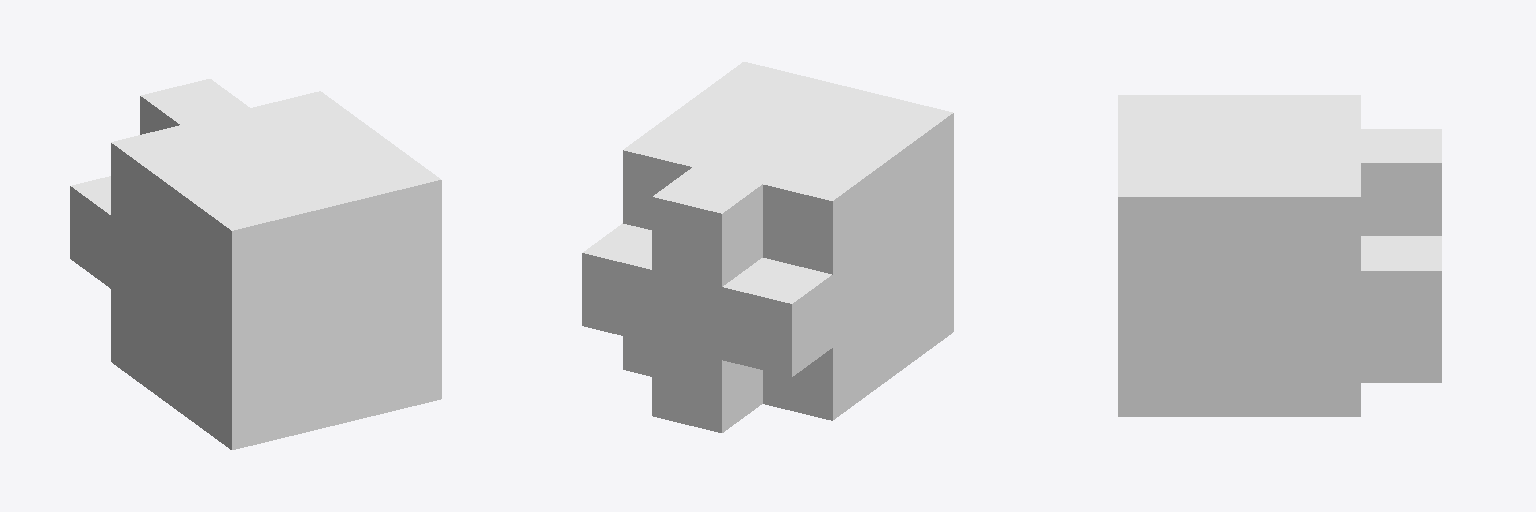
Rendered from FireEffect.obj.
The picture shows the model from 3 angles: view 1: azimuth 30°, elevation 25°; view 2: azimuth 150°, elevation 25°; view 3: azimuth 270°, elevation 25°; orthographic projection.
Visible parts, largest first — view 1: object 1; view 2: object 1; view 3: object 1.
Part boxes in pixels (left/top/right/bottom): object 1: left=70, top=79, right=441, bottom=449; object 1: left=582, top=62, right=953, bottom=432; object 1: left=1118, top=95, right=1441, bottom=416.
Bounding box in the file's own units: 0.3 × 0.3 × 0.4.